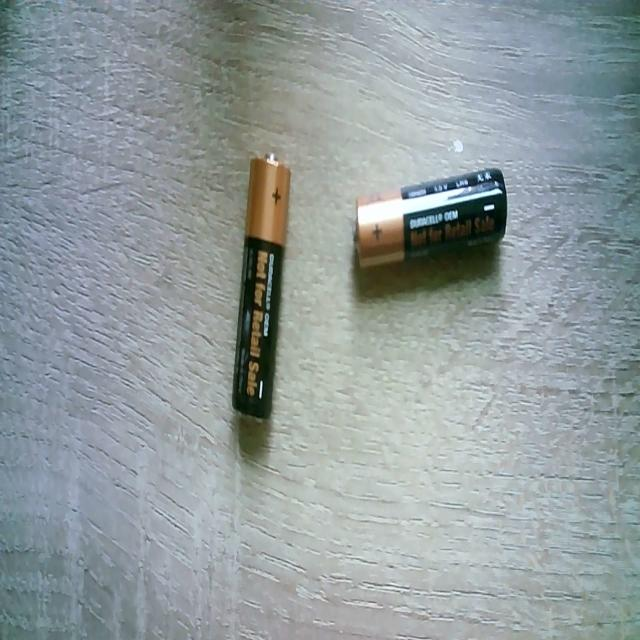AA: (353, 166, 508, 270), (231, 152, 291, 419)
